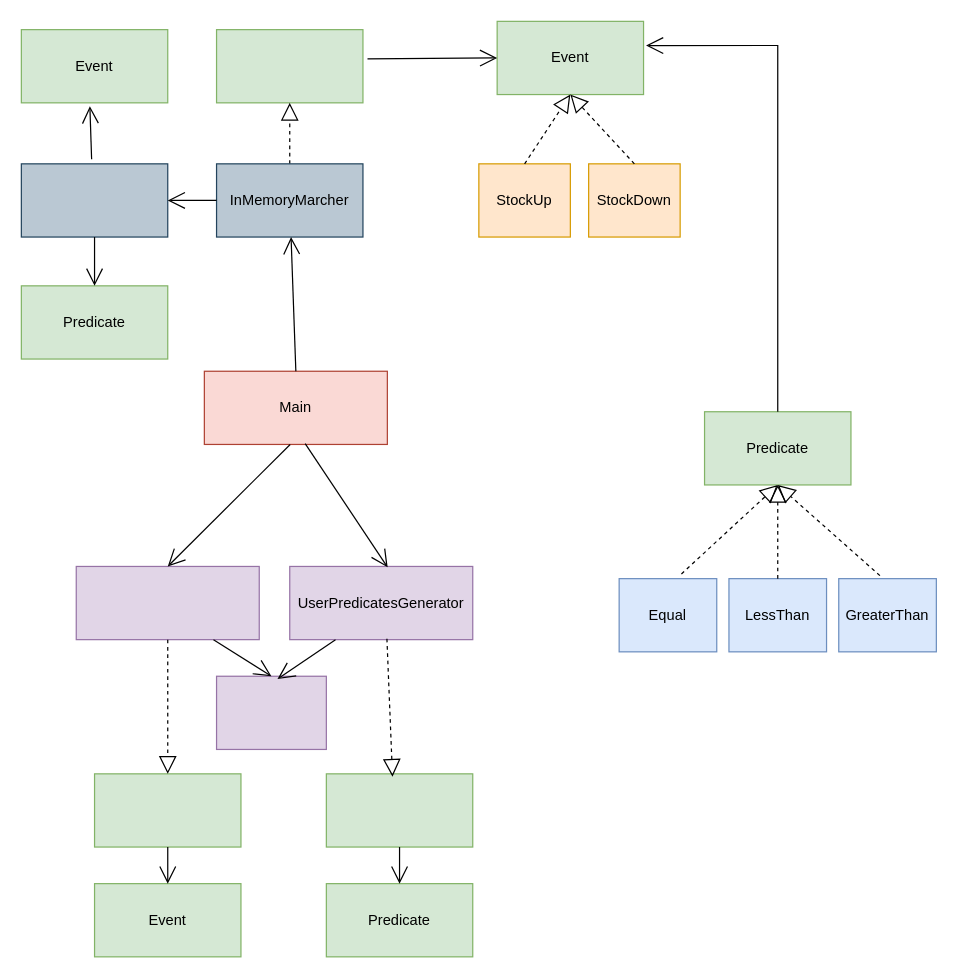
This 958x978 diagram has some shape labels left out. Each missing label, with the centre of its shape:
"EventGenerator" belongs at point (167, 810).
"Matcher" belongs at point (289, 65).
"MaterializedMatch" belongs at point (94, 200).
"NasdawEventGenerator" belongs at point (167, 602).
"PredicateGenerator" belongs at point (399, 810).
"Ramdomizer" belongs at point (270, 712).
